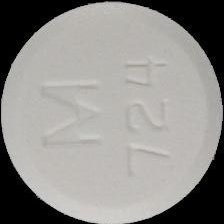43353-914: (0, 0, 224, 224)
